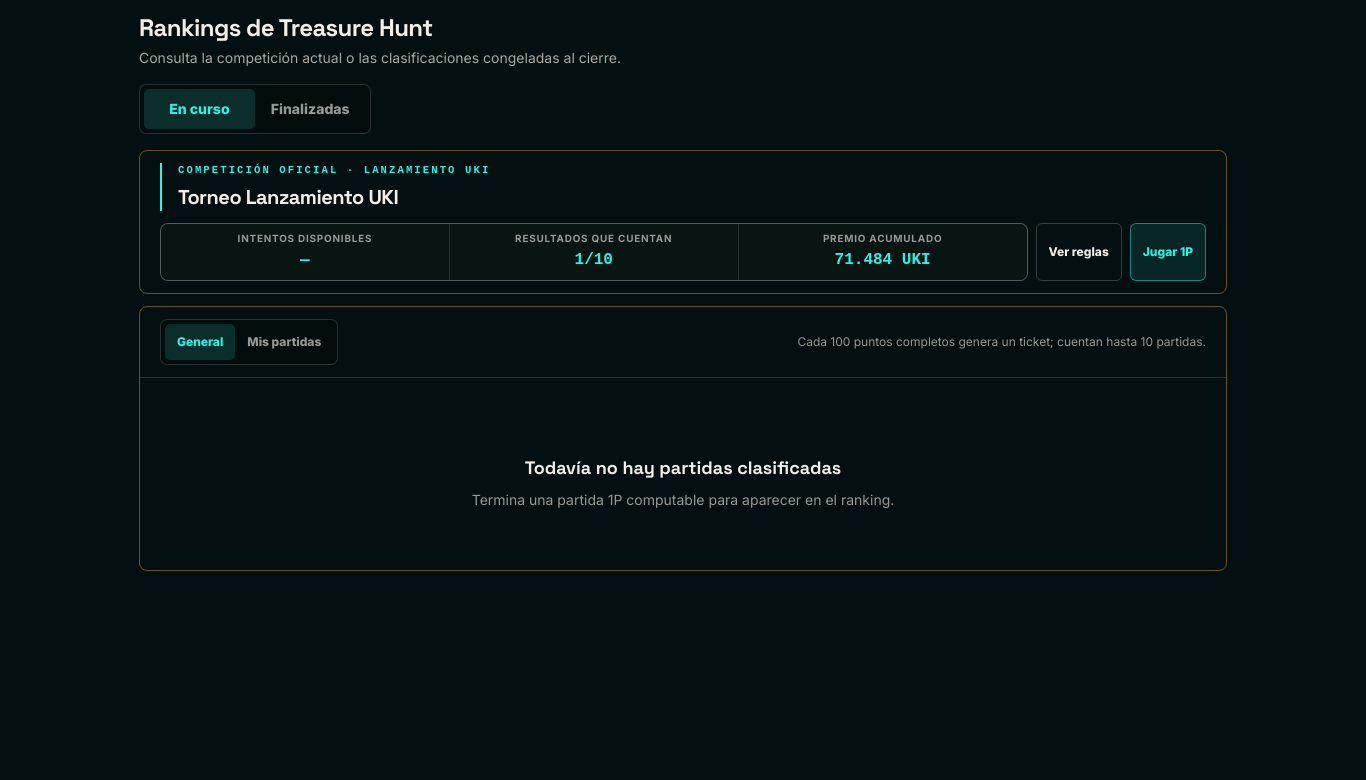
Test: histórico de Rankings de Treasure Hunt › muestra el error de detalle y Reintentar recupera la clasificación
Click the button "Finalizadas" at [310, 109], box x1=255 y1=89 x2=366 y2=129
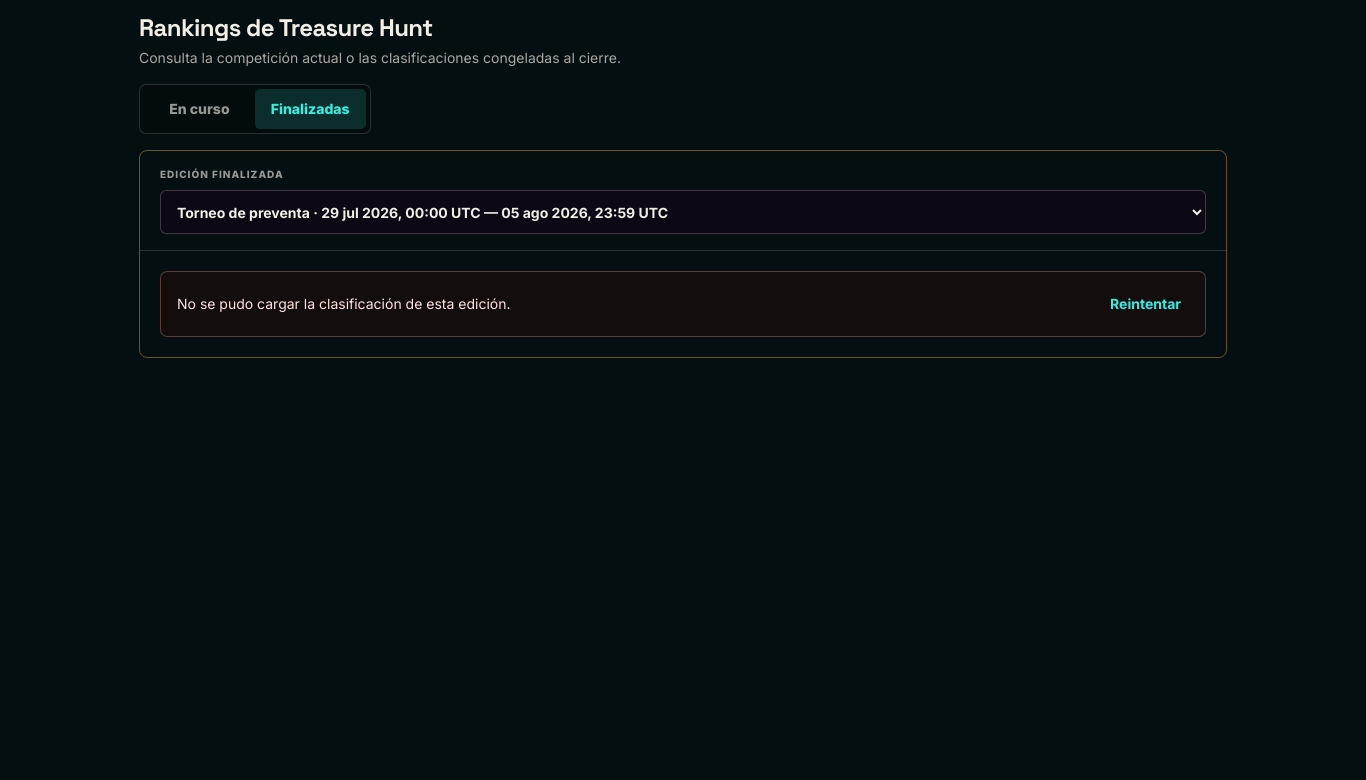
Expected: the message shows "No se pudo cargar la clasificación de esta edición.", x1=177 y1=295 x2=510 y2=312
Click the button "Reintentar" at [1146, 304], box x1=1102 y1=284 x2=1189 y2=324
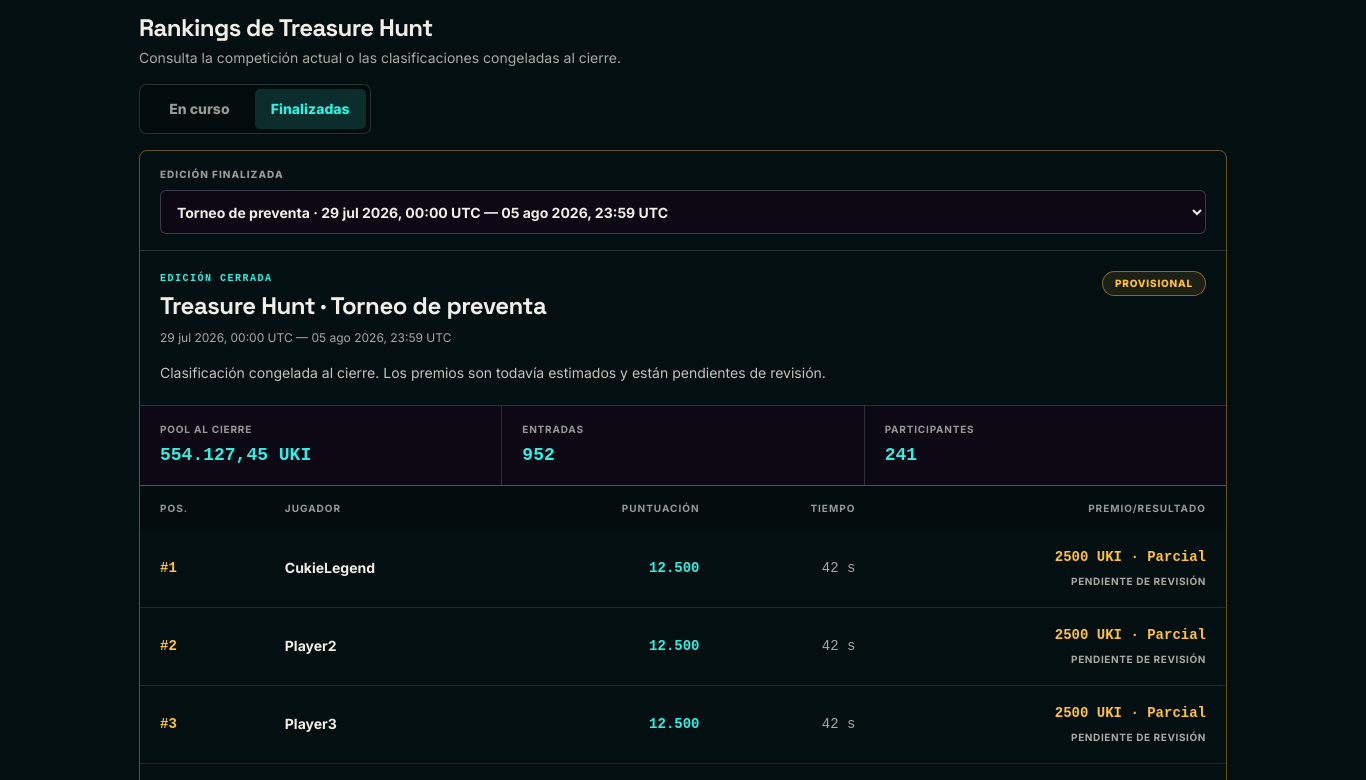
Expected: the text "Provisional" is shown, x1=1102 y1=271 x2=1206 y2=296
Expected: the text "CukieLegend" is shown 2 times
